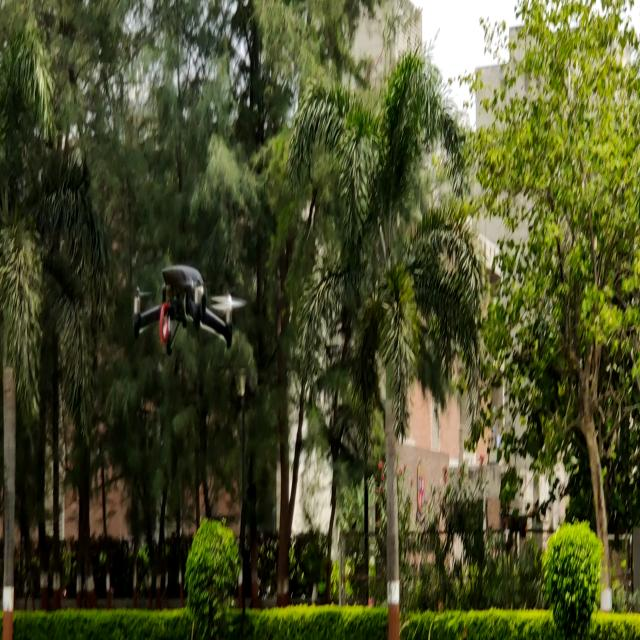drone: (108, 243, 262, 369)
